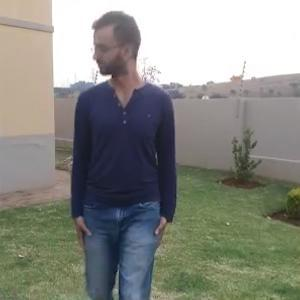follow: (68, 5, 174, 295)
